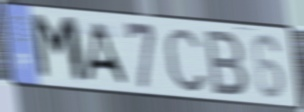6: (250, 32, 289, 102)
7: (123, 19, 158, 92)
A: (81, 20, 129, 87)
B: (204, 28, 251, 98)
C: (162, 25, 209, 95)
M: (28, 11, 90, 87)
